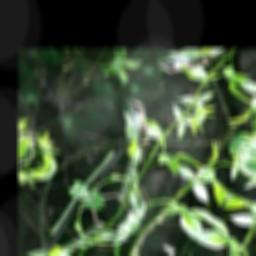Cuckoo: (72, 94, 178, 201)
